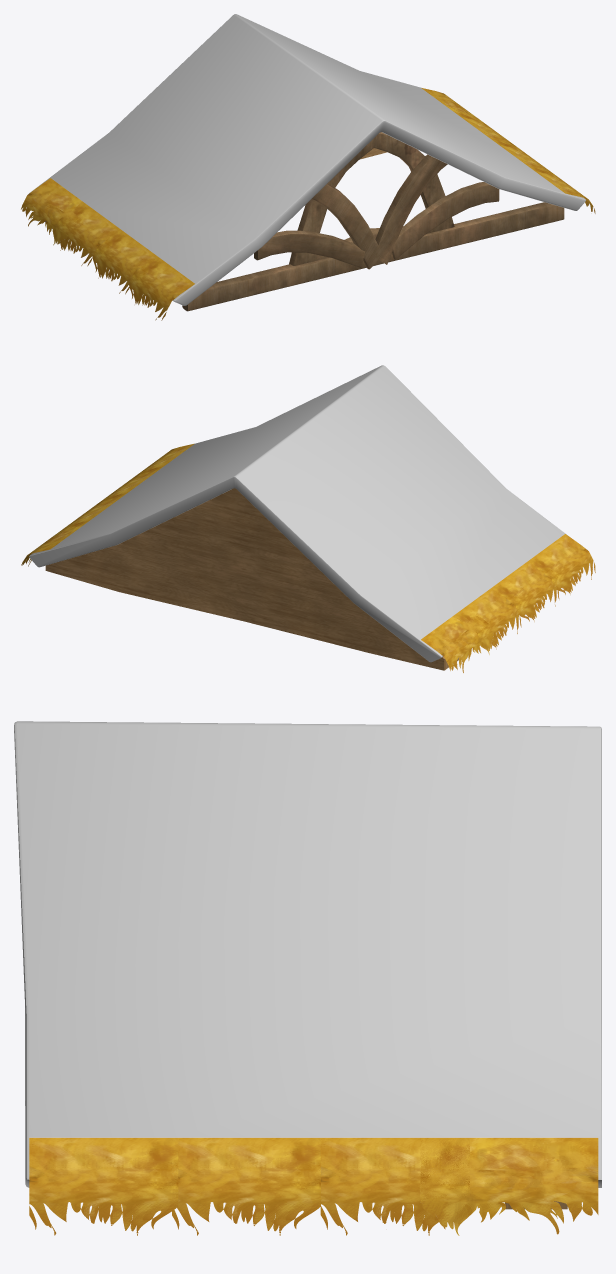
File: SM_roof_extension_05.fbx
3 renders of one model, top to bottom at view 1: azimuth 30°, elevation 25°; view 2: azimuth 150°, elevation 25°; view 3: azimuth 270°, elevation 25°, orthographic. The views are drawn at different scales.
Parts seen in each view (by area): view 1: roof_extension_05; view 2: roof_extension_05; view 3: roof_extension_05.
Boxes of the visible parts, box(x1,y1,x2,y2) form: roof_extension_05: box(21, 14, 595, 320); roof_extension_05: box(21, 365, 595, 672); roof_extension_05: box(14, 721, 601, 1235).
Size of the model in its own units: 386 by 137 by 226.
